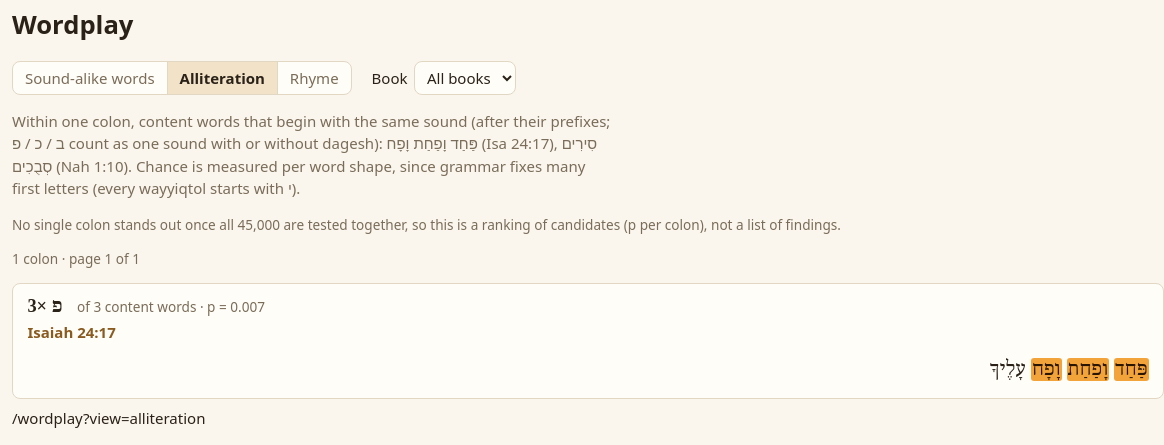
WordplayPage sound views › shows alliteration and rhyme with their words marked
Expected: the text "פ ×3" is shown, x1=27 y1=293 x2=63 y2=321
Click the radio button labelled "Rhyme": (314, 78) x1=277 y1=62 x2=351 y2=94
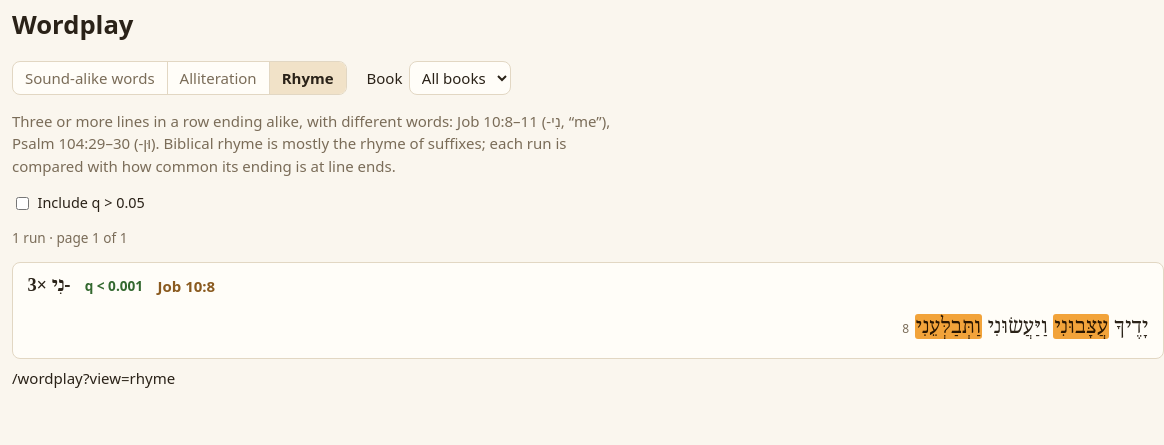
Expected: the text "‑נִי ×3" is shown, x1=27 y1=272 x2=70 y2=300
